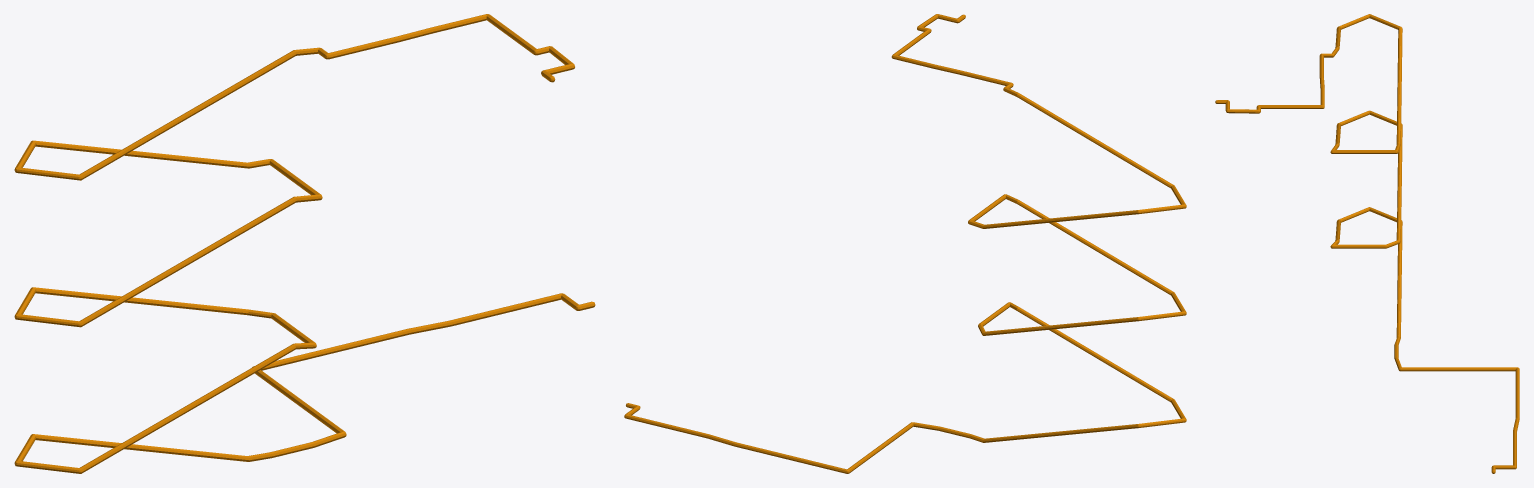
3 views of the same model, side by side, from view 1: azimuth 30°, elevation 25°; view 2: azimuth 150°, elevation 25°; view 3: azimuth 270°, elevation 25° (orthographic). The views are drawn at different scales.
Bounding box in the file's own units: 2406 × 1520 × 1430.
